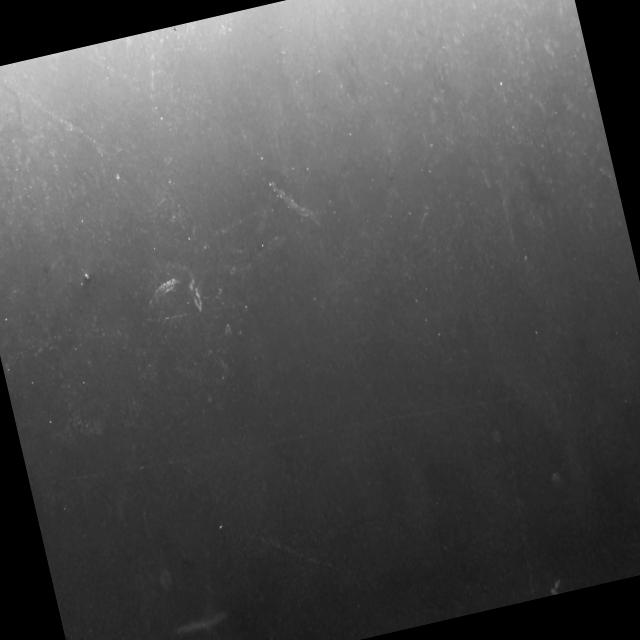beta: (85, 32, 209, 144), (0, 47, 103, 169), (496, 448, 546, 600), (243, 512, 336, 586), (208, 206, 266, 242), (411, 200, 435, 236), (186, 273, 204, 316), (545, 574, 565, 596)
